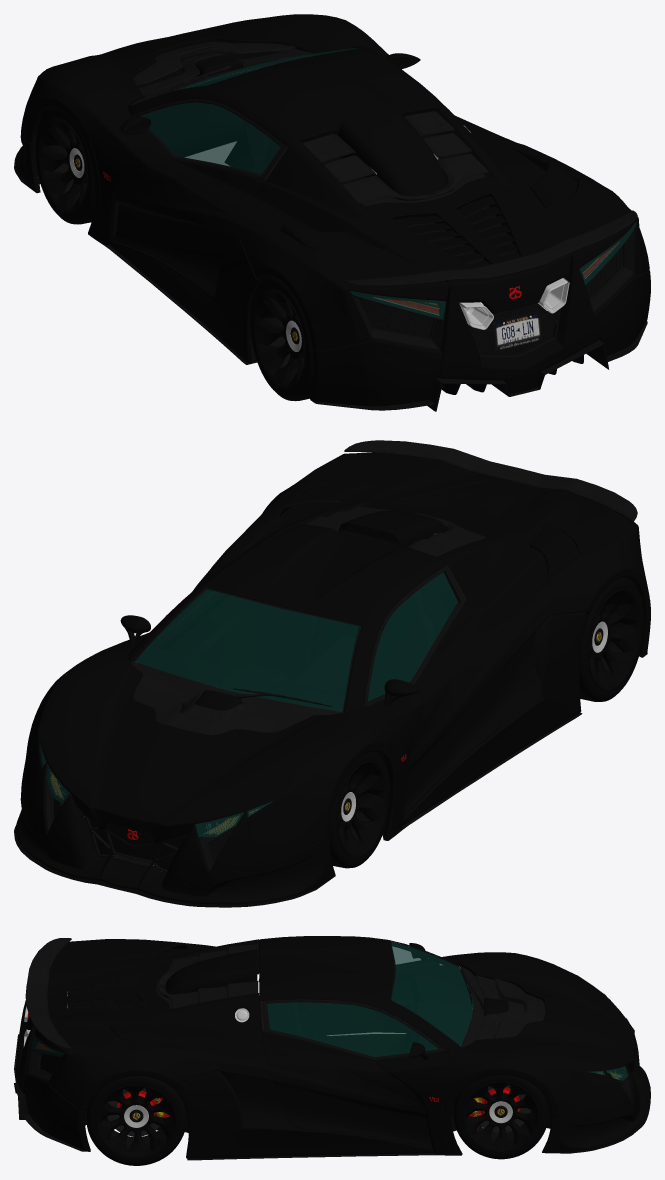
File: car-supercar.glb
3 renders of one model, top to bottom at view 1: azimuth 30°, elevation 25°; view 2: azimuth 150°, elevation 25°; view 3: azimuth 270°, elevation 25°, orthographic. The views are drawn at different scales.
Parts seen in each view (by area): view 1: clearcoat, car_body, car_glass, car_wheel_BL, car_wheel_FL; view 2: clearcoat, car_body, car_glass, car_wheel_BL, car_wheel_FL; view 3: clearcoat, car_body, car_glass, car_wheel_BR, car_wheel_FR.
Boxes of the visible parts, x1,y1,x2,y2 form: clearcoat: (15,14,650,406); car_body: (14,40,647,411); car_glass: (140,48,636,319); car_wheel_BL: (250,276,313,401); car_wheel_FL: (35,107,94,224); clearcoat: (15,453,650,904); car_body: (14,440,647,907); car_glass: (40,572,457,837); car_wheel_BL: (579,577,644,701); car_wheel_FL: (329,751,390,868); clearcoat: (16,936,649,1158); car_body: (14,938,650,1160); car_glass: (31,942,628,1080); car_wheel_BR: (86,1075,186,1165); car_wheel_FR: (453,1075,548,1159).
Size of what is drawn, in the model's own units: 0.0565 by 0.0301 by 0.1181.
4 materials, 2 textured.
